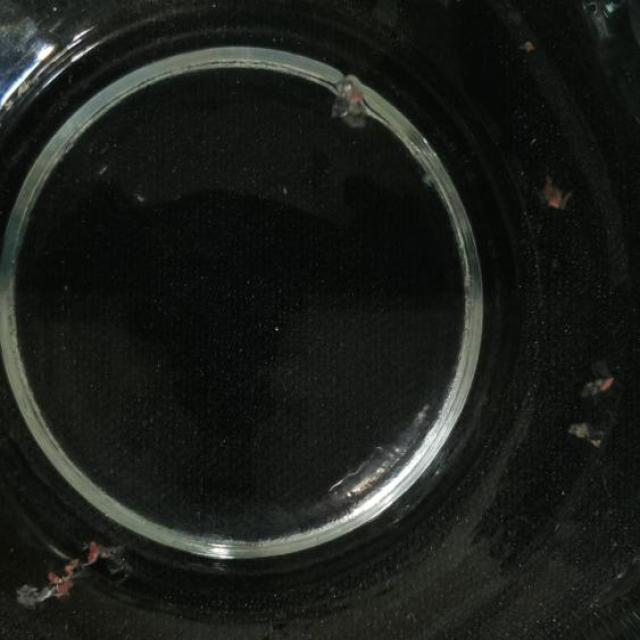fiber: (24, 534, 125, 621), (324, 74, 371, 139), (559, 416, 616, 459), (581, 372, 615, 411), (435, 0, 480, 12)
